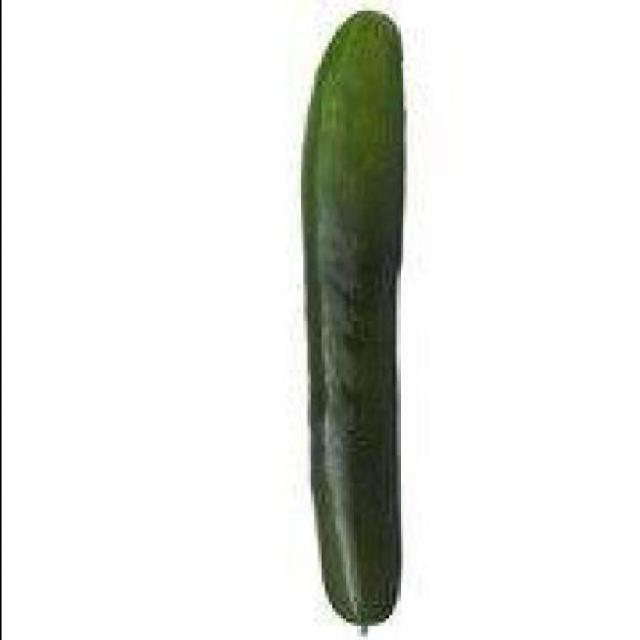BIODEGRADABLE: (295, 3, 402, 629)
